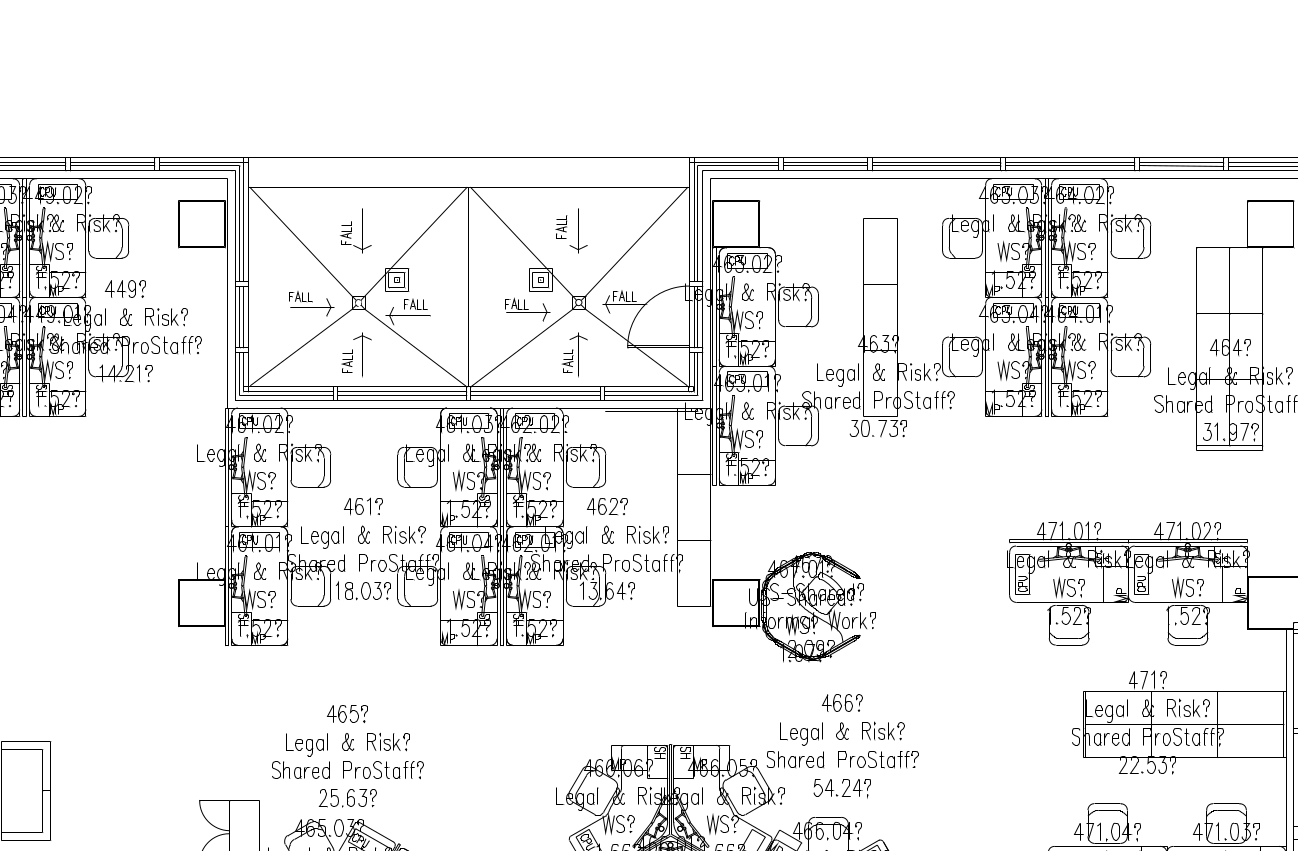door: (621, 280, 689, 351)
